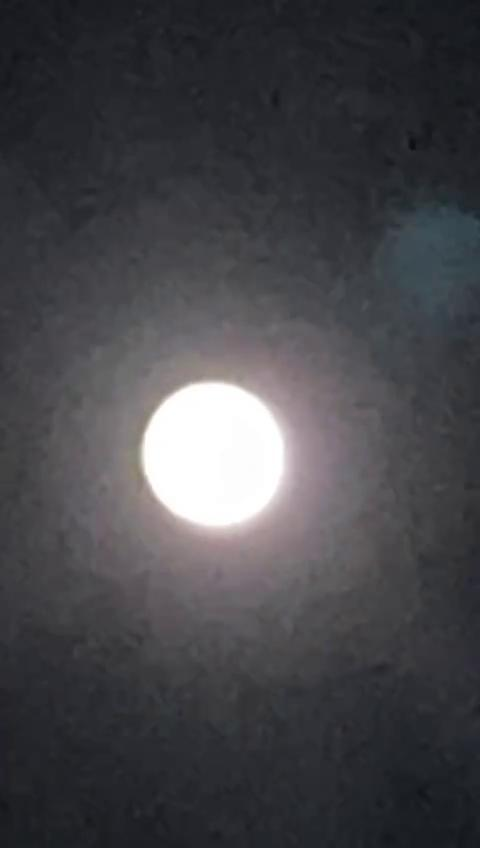moon: (140, 352, 306, 542)
